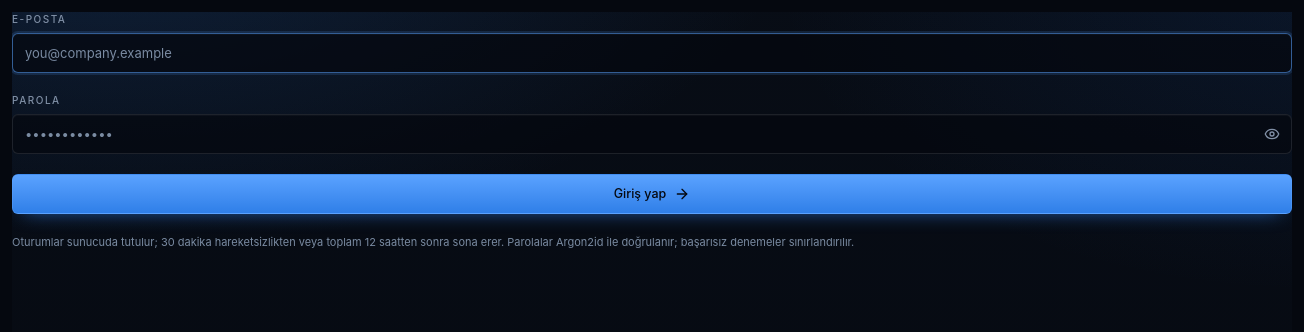
Test: LoginForm › speaks Turkish when the interface language is Turkish, including server messages
The image size is (1304, 332).
Click the button "Giriş yap": point(652, 194) [12,174,1292,214]
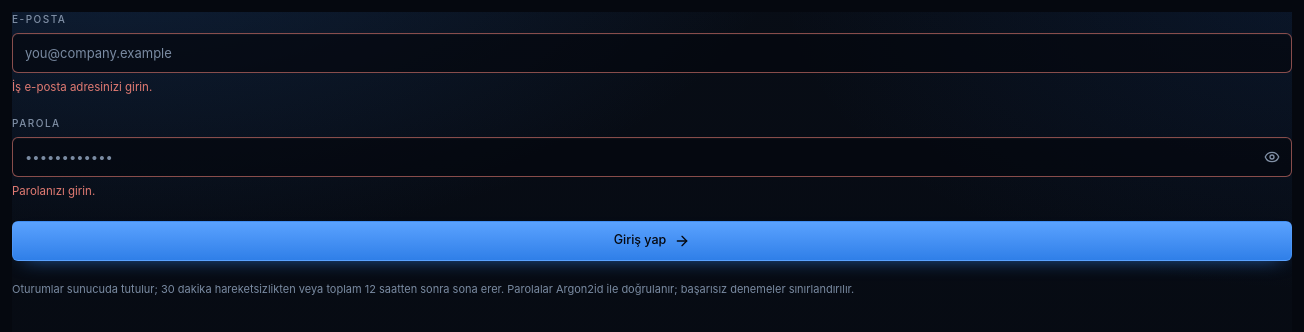
Expected: the text "İş e-posta adresinizi girin." is shown, [12,80,152,94]
Expected: the text "Parolanızı girin." is shown, [12,184,95,198]
In the field labelled "E-posta": point(652, 53) [12,33,1292,73], type "amina@touche.example"
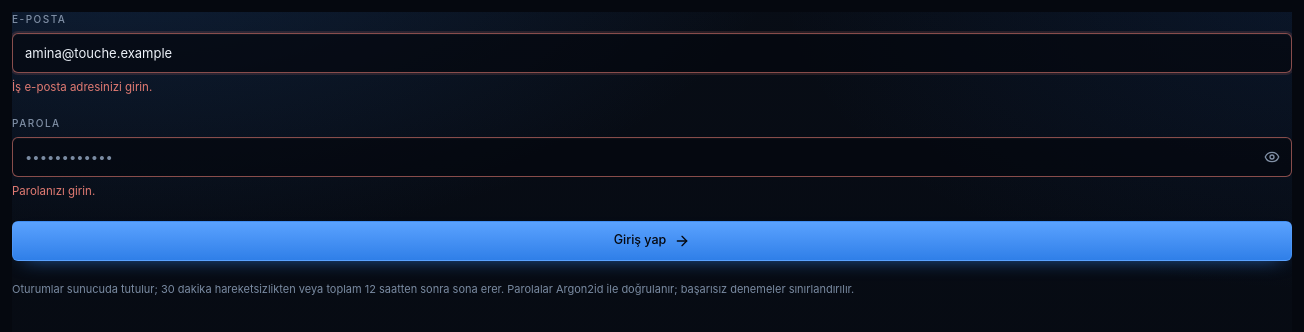
In the password field labelled "Parola": point(652, 157) [12,137,1292,177], type "wrong"
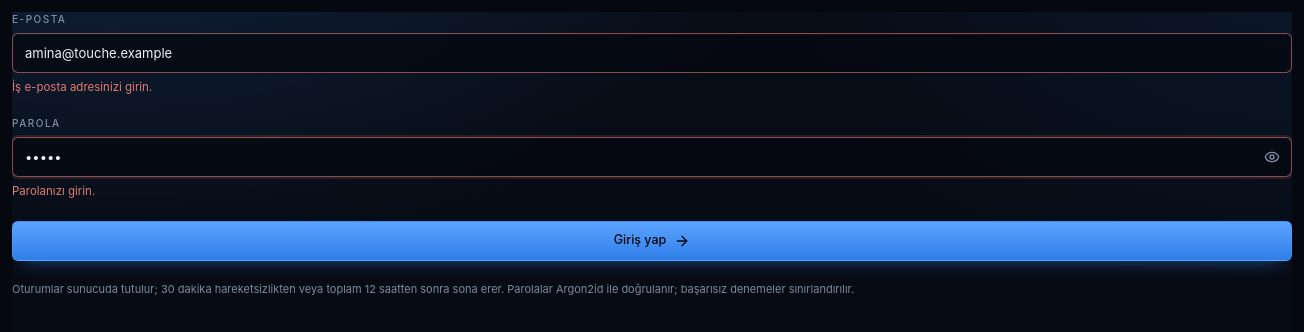
Click the button named "Parolayı göster": point(1272, 157) [1252,137,1292,177]
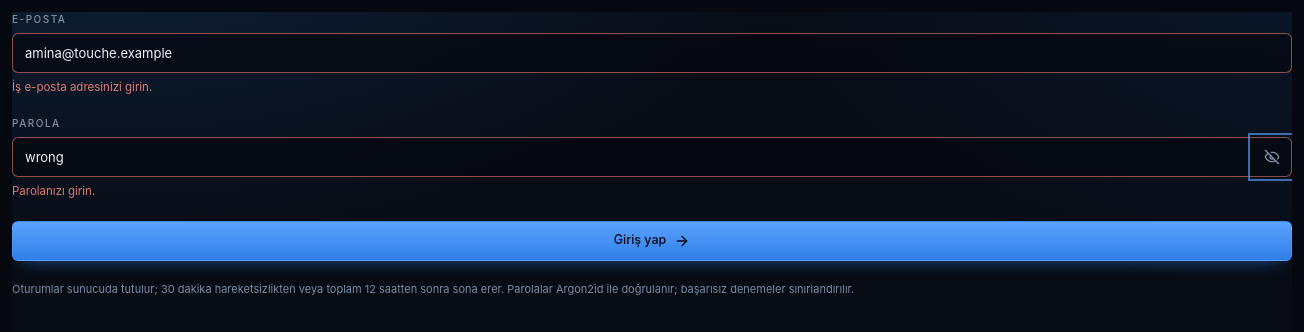
Click the button "Giriş yap": point(652, 240) [12,220,1292,260]
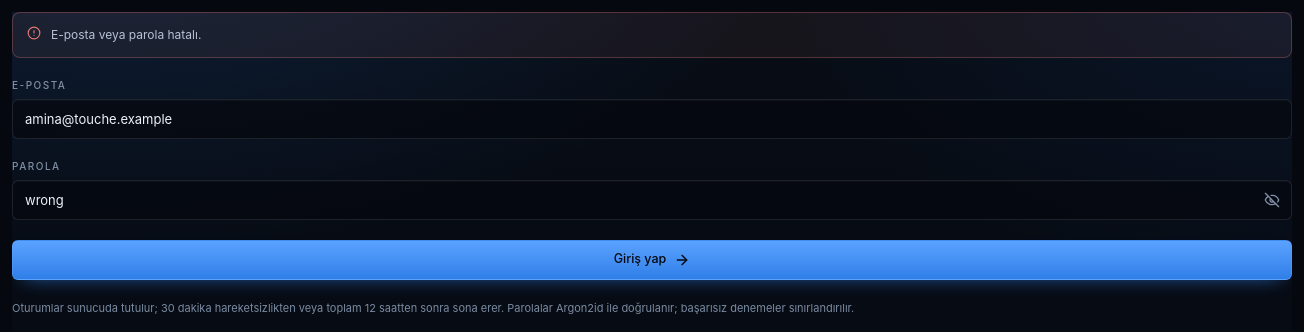
Expected: the message reads "E-posta veya parola hatalı.", [51,27,201,42]
